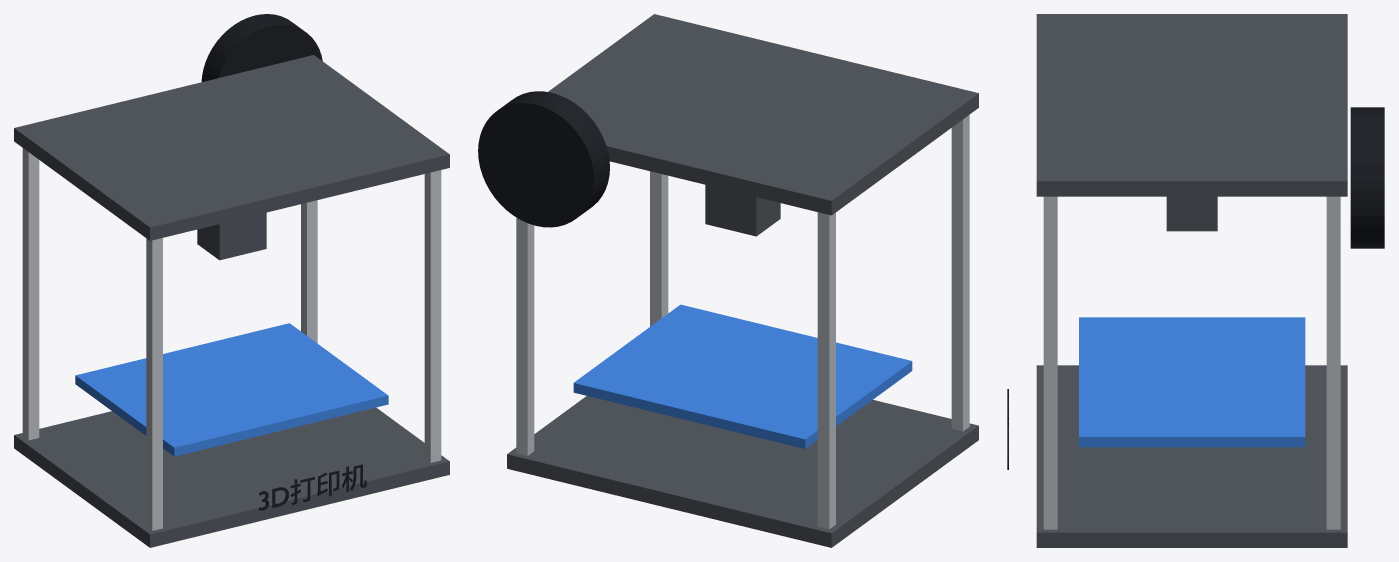
File: asset_3d_printer.glb
The picture shows the model from 3 angles, left to right: view 1: azimuth 30°, elevation 25°; view 2: azimuth 150°, elevation 25°; view 3: azimuth 270°, elevation 25°; orthographic projection. The views are drawn at different scales.
Visible parts, largest first — view 1: frame_top, frame_bottom, print_bed, upright.002, upright.001, upright, filament_spool, extruder, upright.003, asset_label; view 2: frame_top, frame_bottom, print_bed, filament_spool, upright.001, upright, upright.003, upright.002, extruder; view 3: frame_top, frame_bottom, print_bed, upright.002, upright.003, filament_spool, extruder.
Boxes of the visible parts, x1,y1,x2,y2 form: frame_top: (14, 55, 449, 240); frame_bottom: (14, 407, 449, 547); print_bed: (75, 323, 388, 456); upright.002: (424, 170, 441, 462); upright.001: (22, 148, 39, 440); upright: (146, 238, 162, 530); filament_spool: (201, 14, 322, 81); extruder: (197, 212, 266, 260); upright.003: (301, 200, 317, 343); asset_label: (259, 464, 366, 510); frame_top: (548, 14, 978, 215); frame_bottom: (507, 396, 978, 547); print_bed: (573, 304, 912, 448); filament_spool: (478, 91, 609, 227); upright.001: (817, 212, 835, 529); upright: (951, 115, 969, 431); upright.003: (516, 217, 534, 455); upright.002: (650, 171, 668, 326); extruder: (705, 185, 780, 236); frame_top: (1036, 14, 1347, 196); frame_bottom: (1036, 365, 1347, 547); print_bed: (1079, 317, 1305, 447); upright.002: (1043, 196, 1057, 529); upright.003: (1326, 196, 1340, 529); filament_spool: (1350, 107, 1384, 248); extruder: (1166, 196, 1217, 231).
Size of the model in its own units: 1.45 by 1.6 by 1.33.
